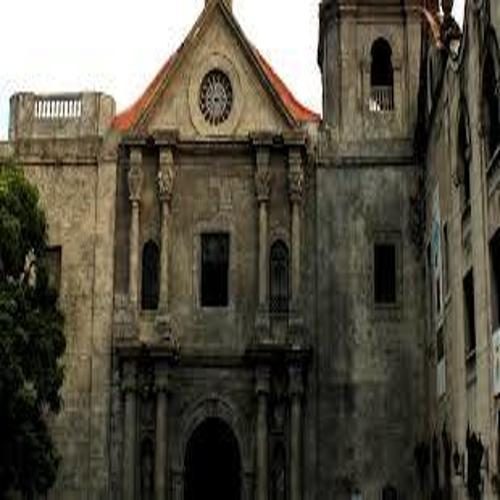San Agustin Church: (108, 1, 431, 500)
